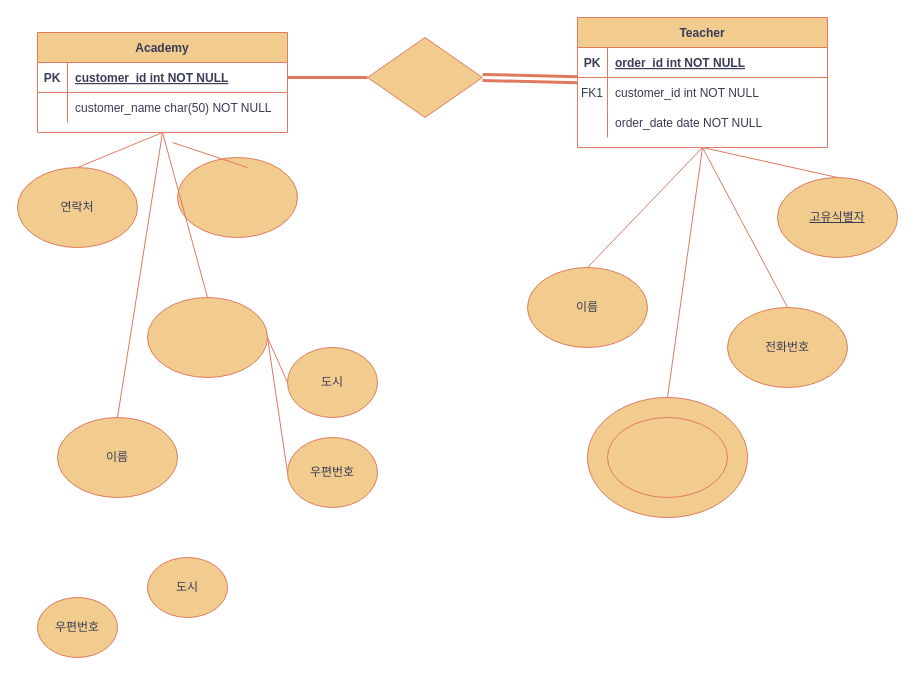
Image size: 915x675. Some labels were removed from this diagram. Here are the shapes that lost their labels. From the top down, the centre of each, then its label:
pixel 424 77: 소속 하다
pixel 237 197: 지점별 고유식별자
pixel 207 337: 주소
pixel 667 457: 전공
